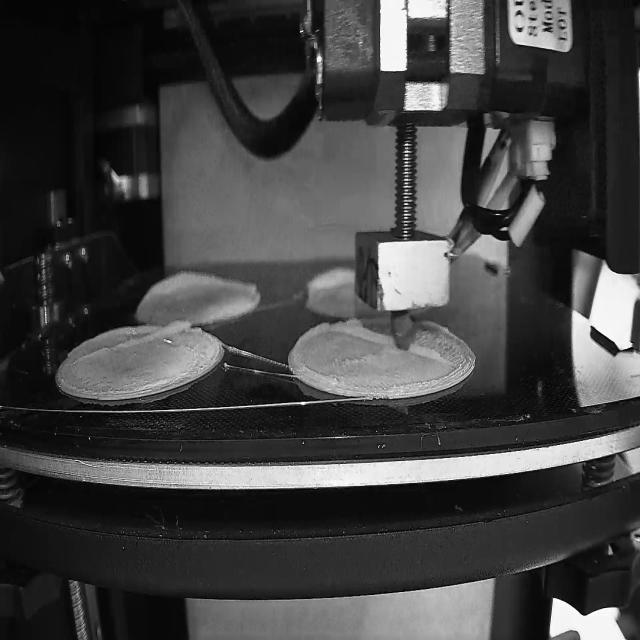over_extrusion: (76, 316, 189, 366), (136, 269, 256, 308), (304, 266, 354, 299), (335, 321, 394, 346), (410, 340, 450, 369)
